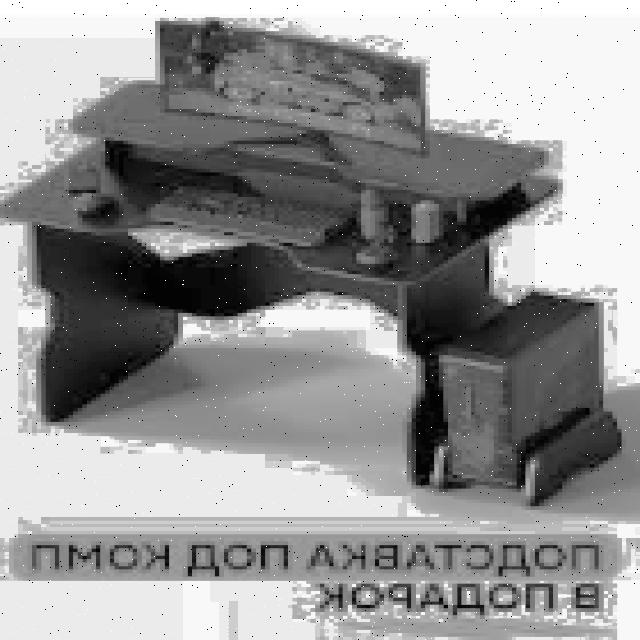table: (0, 78, 617, 500)
